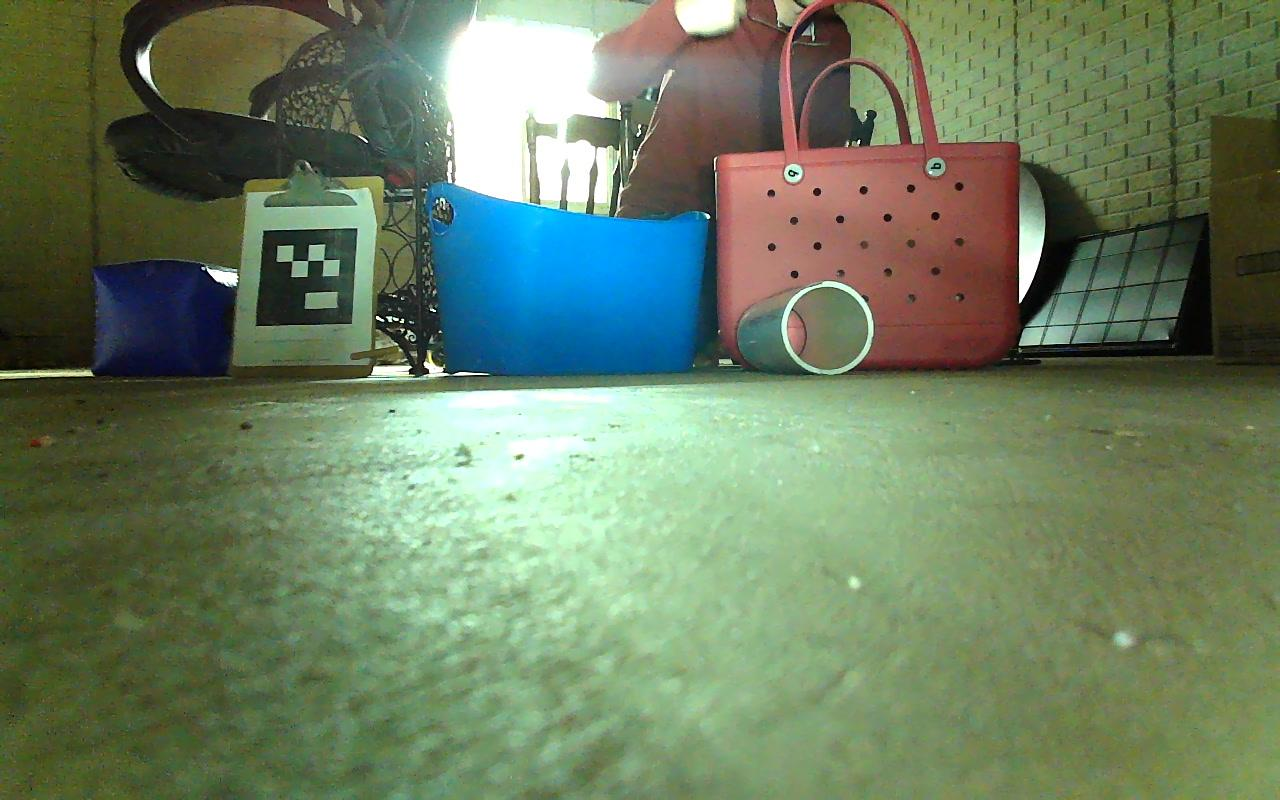coral: (737, 280, 873, 376)
